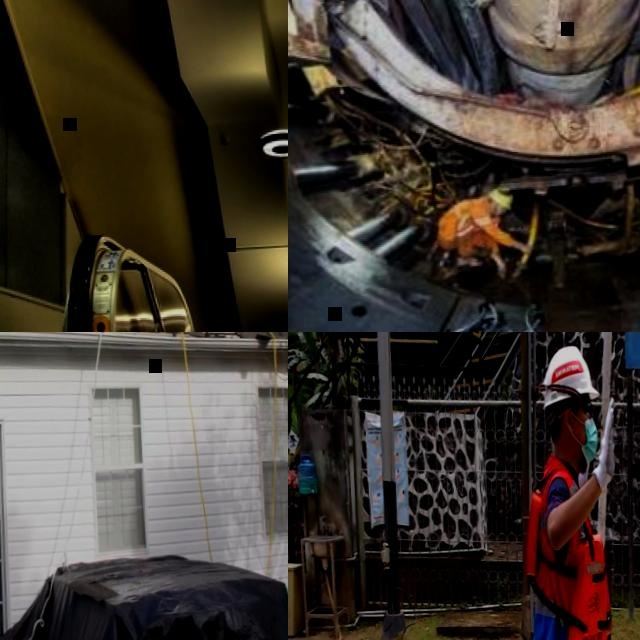Hardhat: (537, 343, 601, 411), (487, 186, 517, 211)
Mask: (567, 410, 601, 464)
NO-Mask: (493, 208, 503, 220)
NO-Safety Vest: (449, 199, 497, 238)
Person: (509, 337, 640, 640), (435, 184, 538, 283)
Safety Vest: (520, 480, 617, 640)
